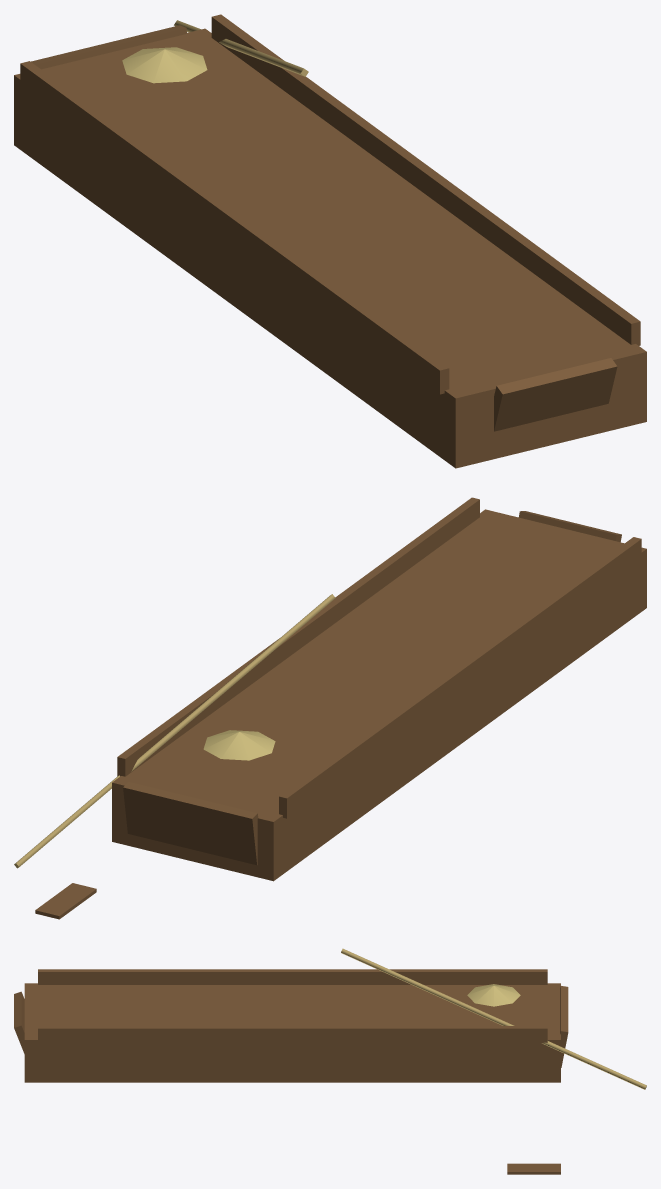
The model's file is sampan.glb.
3 renders of one model, top to bottom at view 1: azimuth 30°, elevation 25°; view 2: azimuth 150°, elevation 25°; view 3: azimuth 270°, elevation 25°, orthographic. The views are drawn at different scales.
Parts seen in each view (by area): view 1: Mesh_Hull, Mesh_GunwaleLeft, Mesh_GunwaleRight, Mesh_HullBow, Mesh_ConicalHat, Mesh_HullStern, Mesh_Oar; view 2: Mesh_Hull, Mesh_GunwaleLeft, Mesh_GunwaleRight, Mesh_HullStern, Mesh_Oar, Mesh_ConicalHat, Mesh_OarBlade, Mesh_HullBow; view 3: Mesh_Hull, Mesh_GunwaleRight, Mesh_GunwaleLeft, Mesh_Oar, Mesh_ConicalHat, Mesh_OarBlade, Mesh_HullStern, Mesh_HullBow.
Boxes of the visible parts, bbox=[...] form: Mesh_Hull: bbox=[14, 28, 646, 468]; Mesh_GunwaleLeft: bbox=[20, 61, 449, 394]; Mesh_GunwaleRight: bbox=[211, 14, 640, 345]; Mesh_HullBow: bbox=[494, 358, 617, 431]; Mesh_ConicalHat: bbox=[122, 47, 207, 83]; Mesh_HullStern: bbox=[31, 25, 186, 69]; Mesh_Oar: bbox=[174, 20, 308, 76]; Mesh_Hull: bbox=[112, 509, 646, 881]; Mesh_GunwaleLeft: bbox=[279, 537, 641, 818]; Mesh_GunwaleRight: bbox=[117, 497, 479, 776]; Mesh_HullStern: bbox=[123, 781, 258, 865]; Mesh_Oar: bbox=[14, 594, 335, 868]; Mesh_ConicalHat: bbox=[203, 730, 275, 760]; Mesh_OarBlade: bbox=[35, 883, 96, 919]; Mesh_HullBow: bbox=[518, 511, 621, 542]; Mesh_Hull: bbox=[24, 983, 560, 1082]; Mesh_GunwaleRight: bbox=[38, 1026, 547, 1043]; Mesh_GunwaleLeft: bbox=[38, 969, 547, 984]; Mesh_Oar: bbox=[341, 948, 646, 1089]; Mesh_ConicalHat: bbox=[467, 984, 520, 1006]; Mesh_OarBlade: bbox=[507, 1163, 560, 1174]; Mesh_HullStern: bbox=[560, 986, 568, 1067]; Mesh_HullBow: bbox=[14, 991, 24, 1053].
Bounding box in the file's own units: 1.5 × 1.44 × 4.72.
